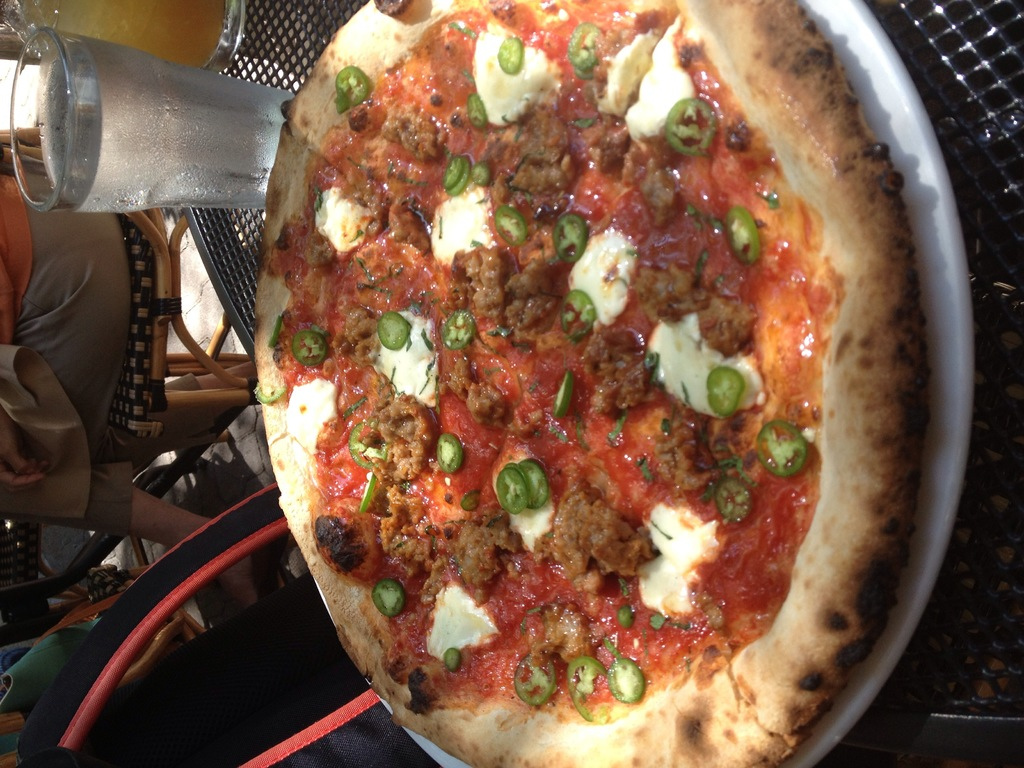Pizza: (257, 0, 932, 767)
